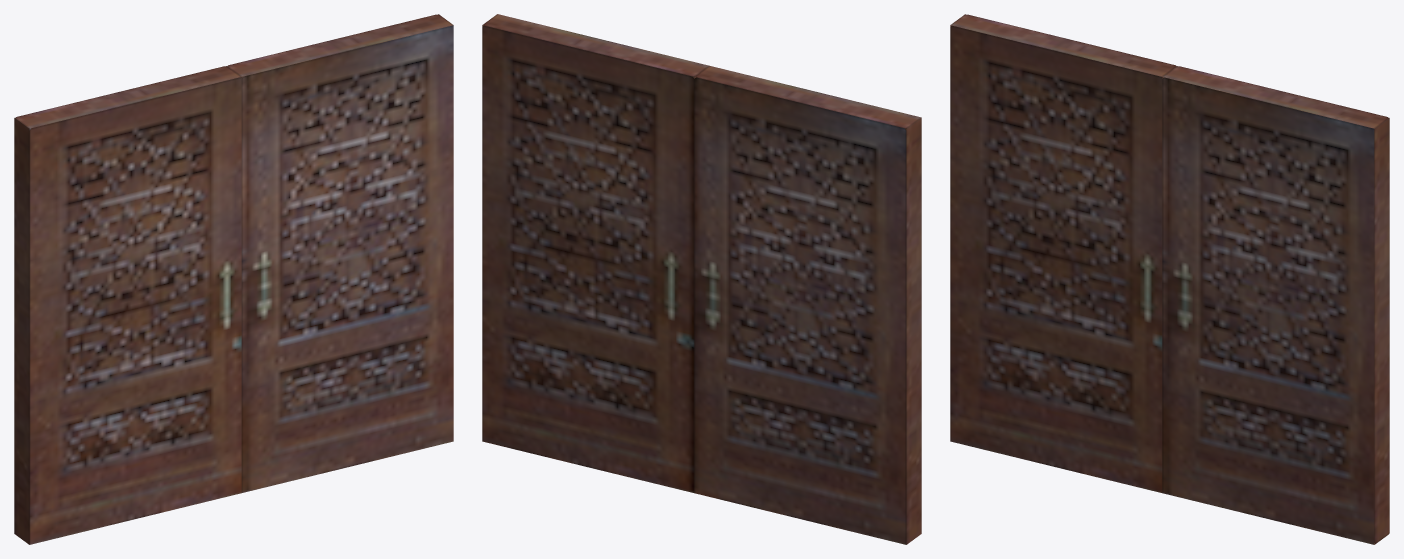
The model's file is drzwi fornt.fbx.
3 views of the same model, side by side, from view 1: azimuth 30°, elevation 25°; view 2: azimuth 150°, elevation 25°; view 3: azimuth 330°, elevation 25° (orthographic).
Visible parts, largest first — view 1: cube_1, cube; view 2: cube_1, cube; view 3: cube, cube_1.
Part boxes in pixels (box(x1,y1,x2,y2)): cube_1: box(14, 66, 241, 544); cube: box(226, 14, 453, 492); cube_1: box(694, 66, 921, 544); cube: box(482, 14, 709, 492); cube: box(1162, 66, 1389, 544); cube_1: box(950, 14, 1176, 492).
Size of the model in its own units: 40 by 37.5 by 2.5.
Materials: 2 (2 with a texture image).
